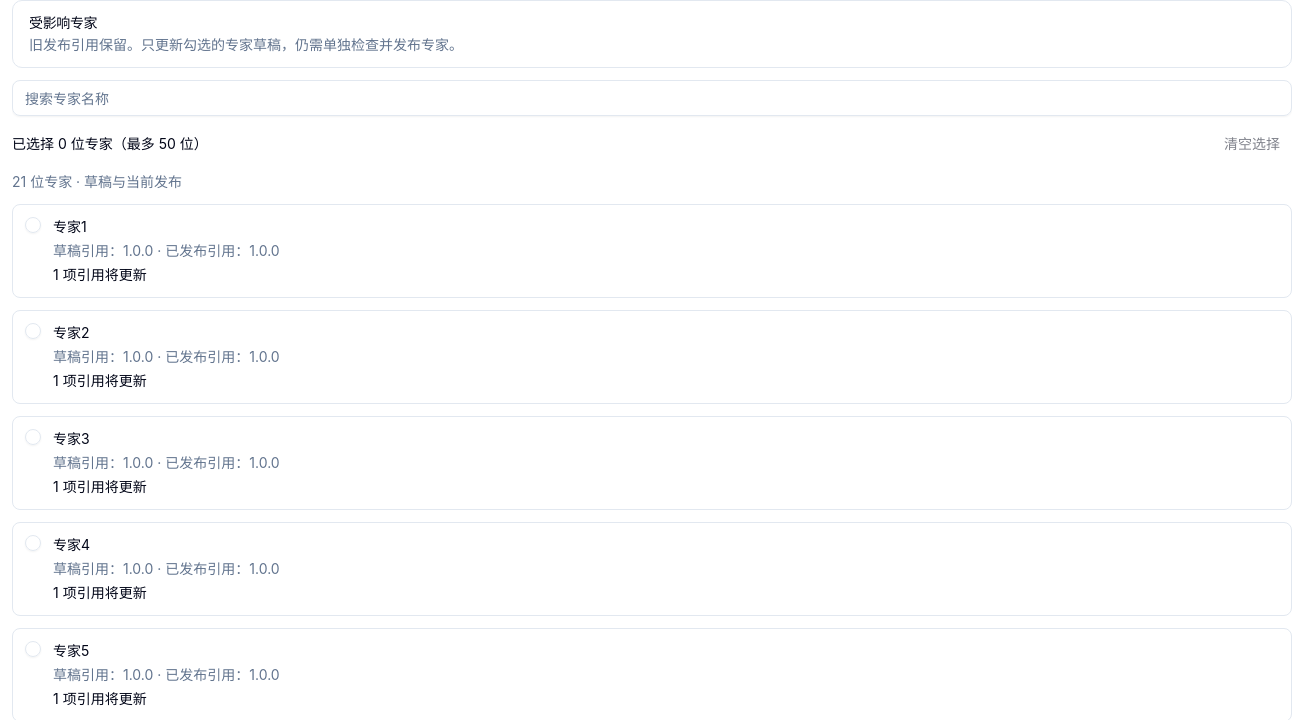
Scenario: 分页和搜索保留精确选择，窄屏能滚动并清空选择
Click the checkbox named "更新 专家1 的草稿". click: (33, 225)
box: [25,217,41,233]
(page scrolled)
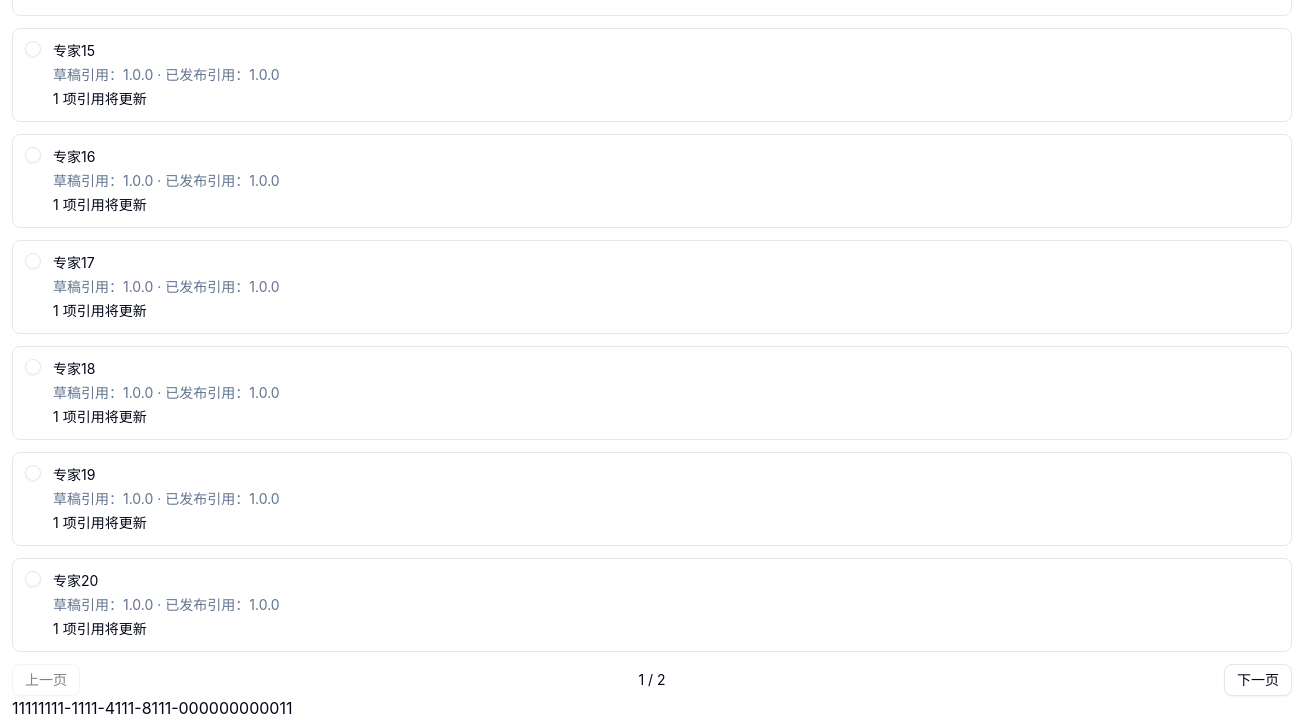
Click the button "下一页". click: (1258, 680)
box: [1224,664,1292,696]
(page scrolled)
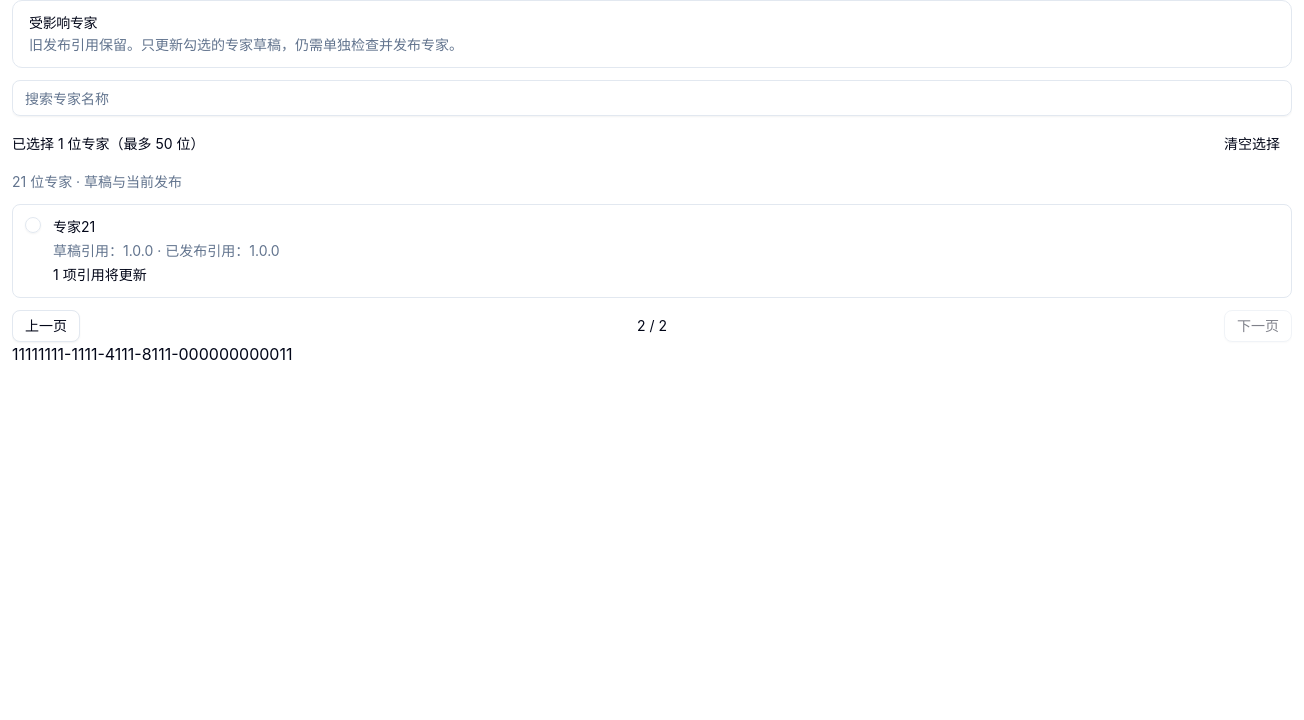
Click the checkbox named "更新 专家21 的草稿". click: (33, 225)
box: [25,217,41,233]
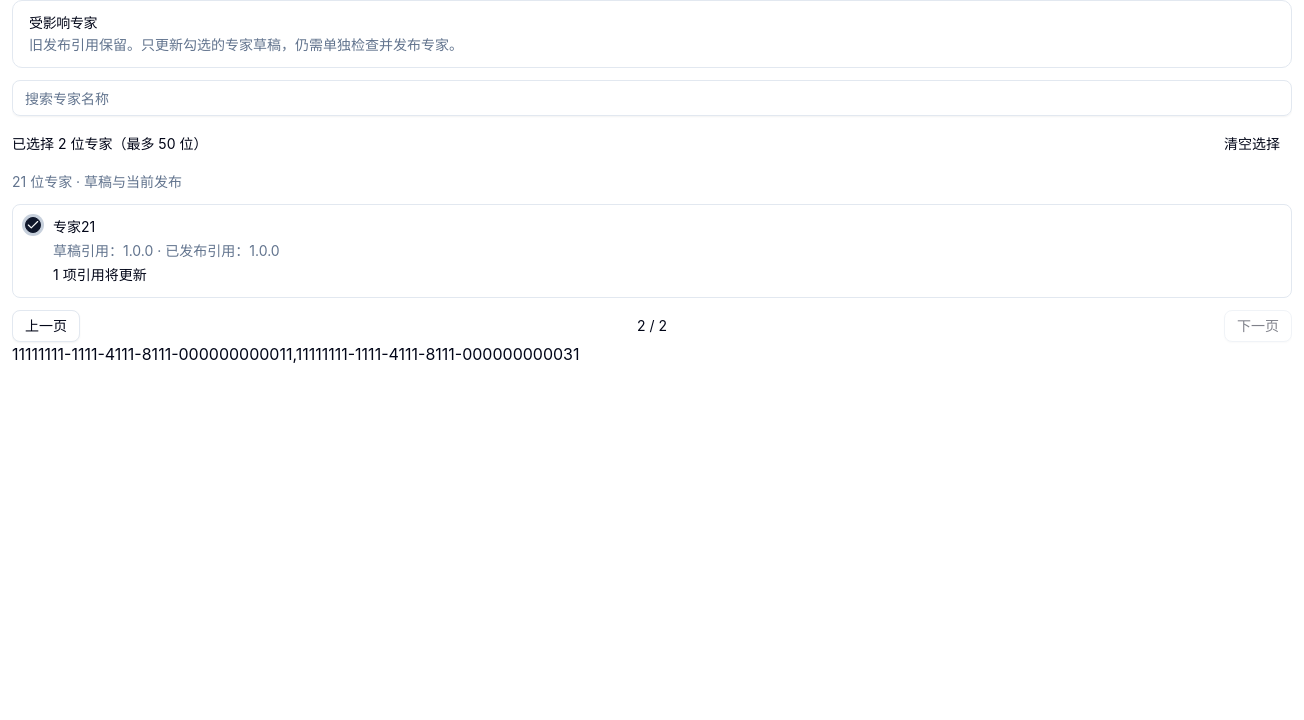
Type "专家21" into the field named "搜索受影响专家". click: (652, 98)
box: [12,80,1292,116]
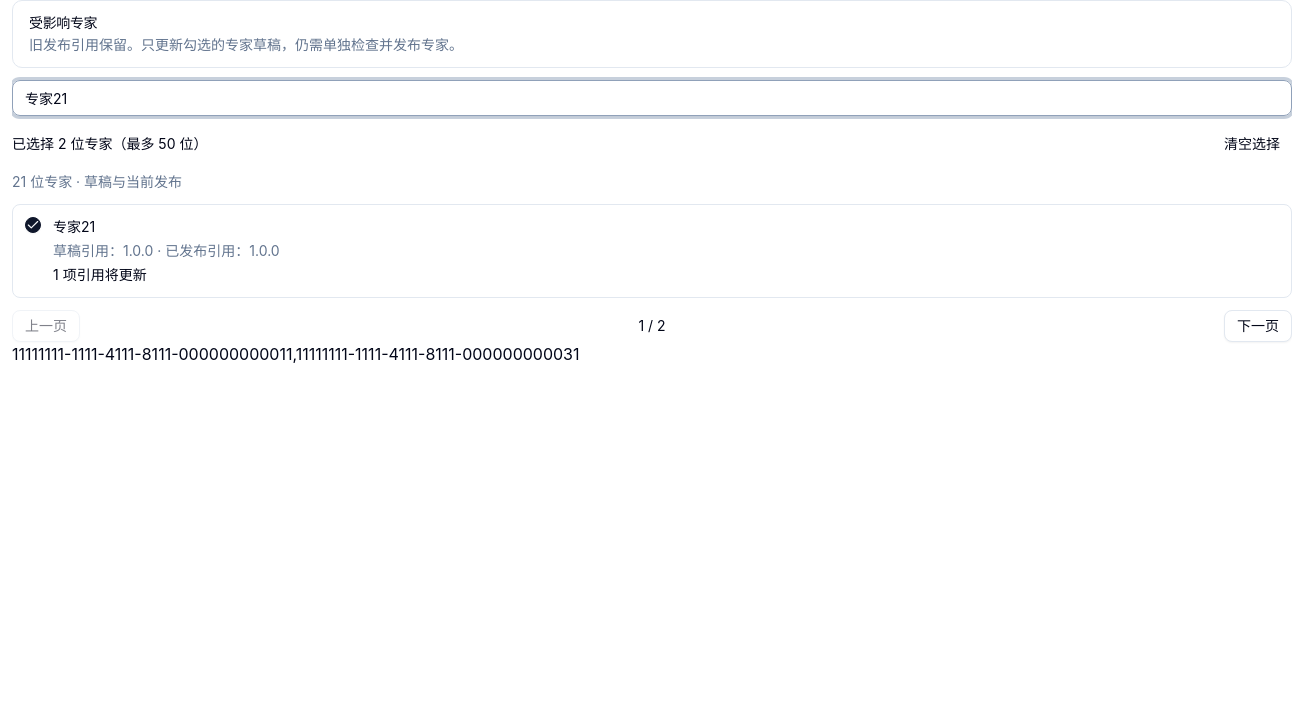
Expected: the text "已选择 2 位专家（最多 50 位）" is shown, [12,134,207,154]
Expected: the checkbox named "更新 专家21 的草稿" is checked, [25,217,41,233]
Click the button "清空选择". click: (1252, 144)
box: [1212,128,1292,160]
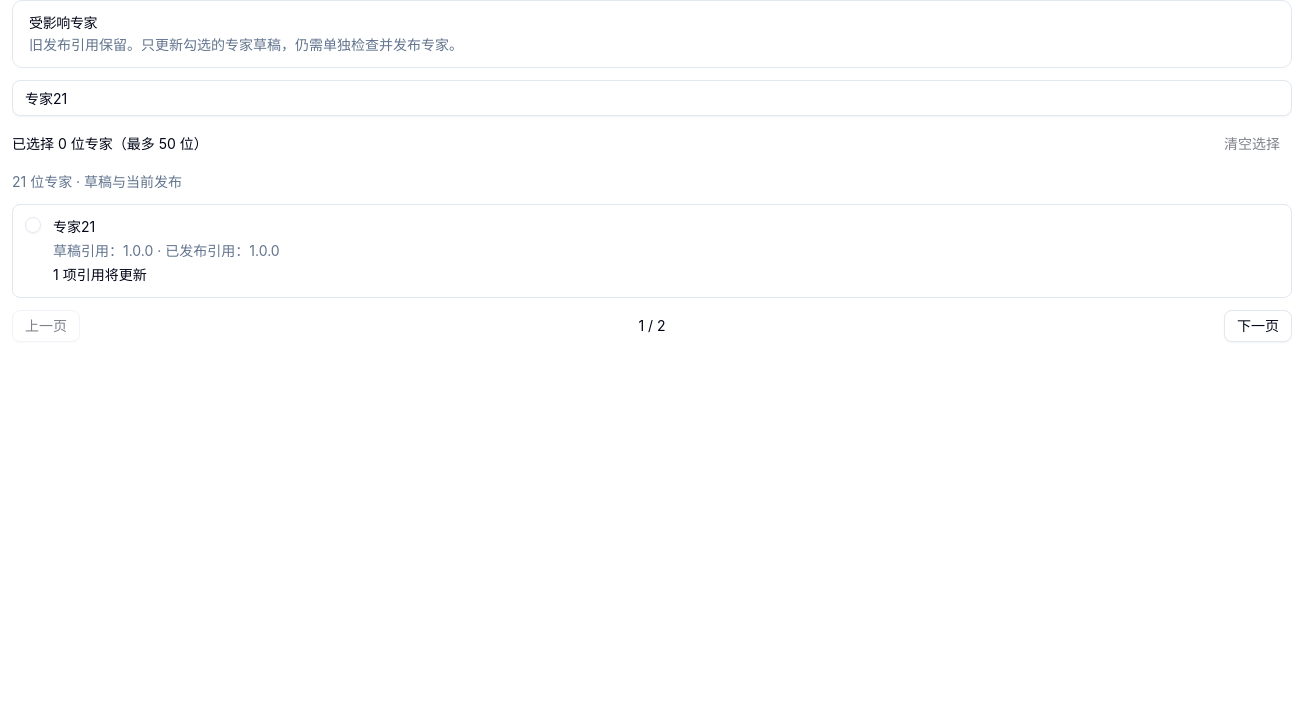
Expected: the text "已选择 0 位专家（最多 50 位）" is shown, [12,134,208,154]
